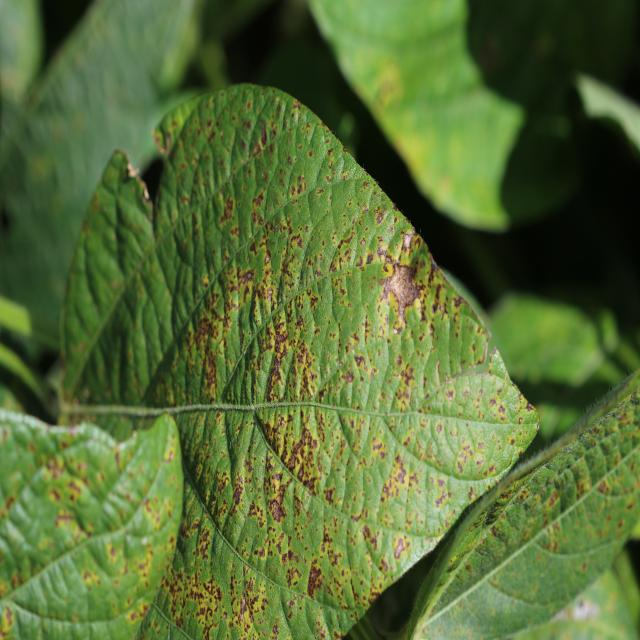Bacterial_Blight: (255, 406, 410, 497), (186, 289, 229, 397), (378, 248, 430, 331), (277, 314, 324, 404), (115, 149, 149, 203), (266, 475, 287, 517), (571, 599, 598, 621), (473, 337, 491, 366), (288, 174, 307, 200), (45, 458, 66, 481), (0, 604, 14, 636), (307, 564, 321, 595), (248, 500, 265, 525), (55, 510, 78, 528), (221, 195, 235, 222), (400, 231, 417, 253), (399, 367, 415, 390), (273, 324, 288, 348), (290, 439, 304, 463), (393, 538, 408, 559), (302, 473, 317, 494), (485, 505, 500, 525), (240, 269, 254, 286), (239, 591, 247, 616), (376, 245, 388, 261), (233, 485, 242, 505), (49, 487, 61, 502), (199, 543, 209, 560), (354, 354, 366, 368), (260, 126, 268, 146), (165, 132, 172, 154), (344, 370, 354, 385), (375, 210, 385, 225), (255, 546, 266, 559), (444, 388, 454, 401), (525, 401, 535, 413), (365, 252, 374, 265), (355, 256, 363, 268), (264, 252, 271, 265), (267, 288, 273, 303), (498, 405, 506, 416), (534, 418, 540, 432), (488, 398, 497, 407), (261, 624, 268, 635), (272, 624, 278, 635)
Soybean: (61, 85, 538, 640)
